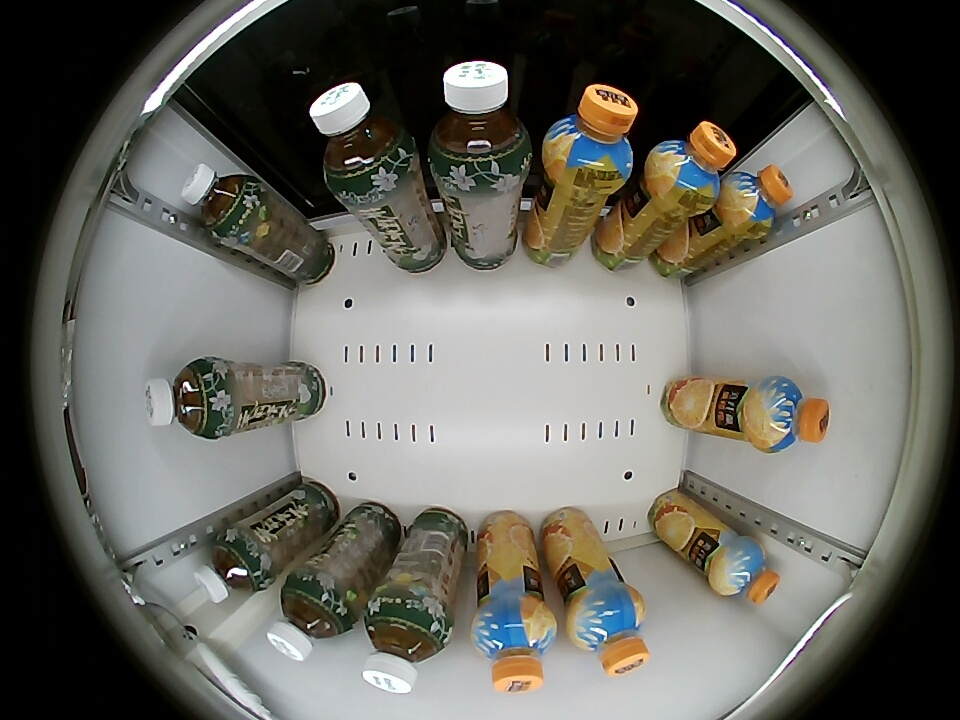guolicheng: (541, 84, 637, 189), (471, 595, 560, 693), (646, 120, 736, 214), (565, 586, 649, 677), (746, 377, 831, 453), (720, 164, 793, 241), (711, 535, 781, 606)
moliqingcha: (425, 60, 532, 182), (309, 83, 416, 195), (361, 597, 452, 695), (266, 574, 354, 662), (143, 357, 229, 439), (181, 164, 258, 241), (195, 528, 268, 603)
